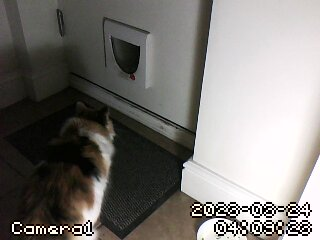clara: (40, 102, 115, 240)
